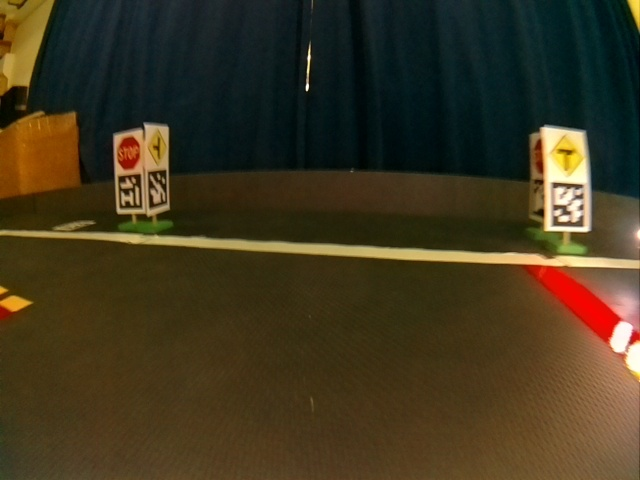Intersection sign: (549, 136, 585, 176), (149, 133, 168, 161)
QR code: (549, 181, 586, 228), (118, 173, 142, 209), (148, 169, 168, 210), (532, 179, 544, 218), (53, 220, 96, 230)
Stop sign: (117, 136, 141, 169)
